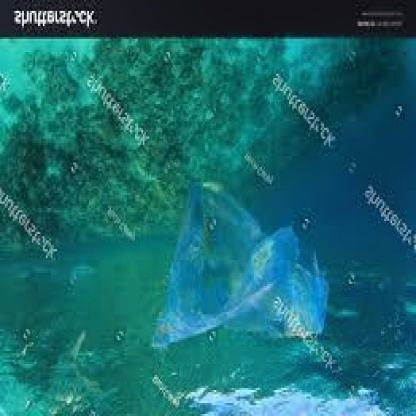pbag: (149, 180, 332, 349)
